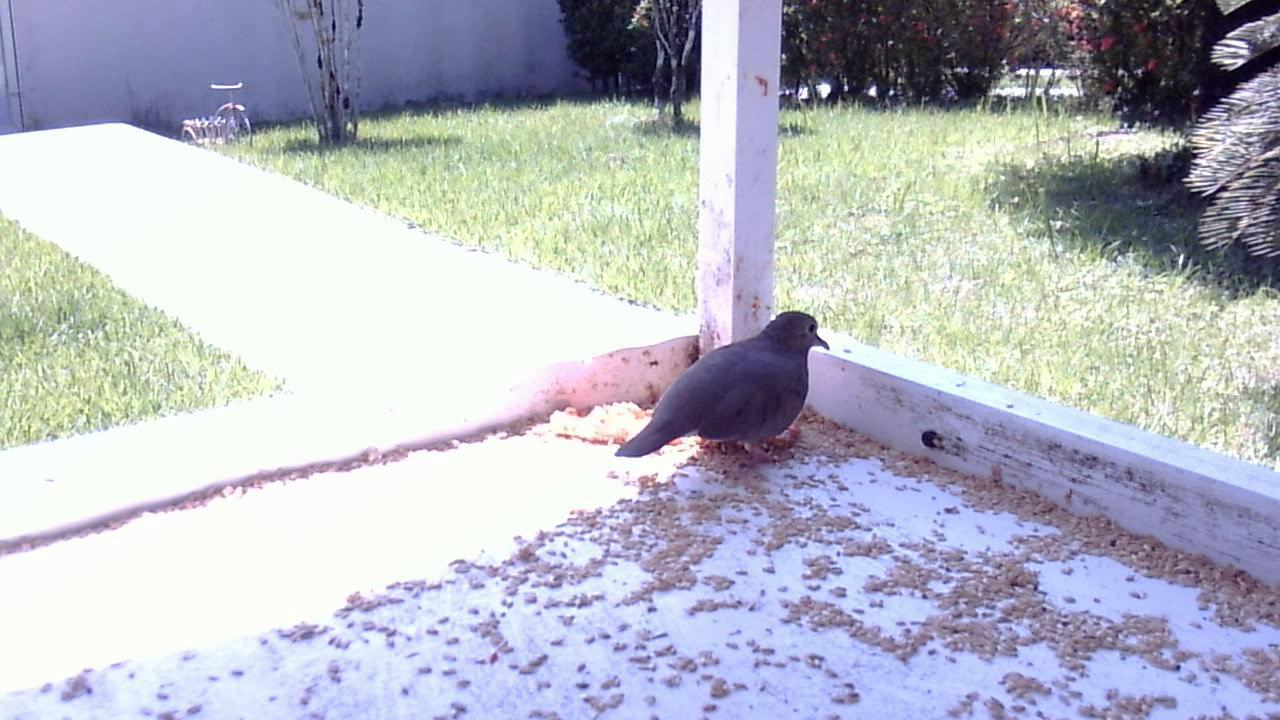rolinha: (613, 304, 833, 482)
